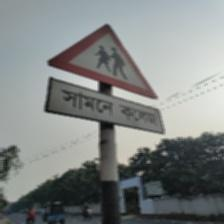College-in-front: (43, 9, 177, 133)
